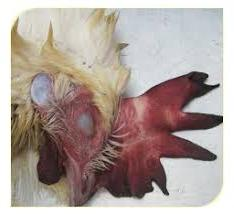AbNormal: (99, 68, 220, 199)
